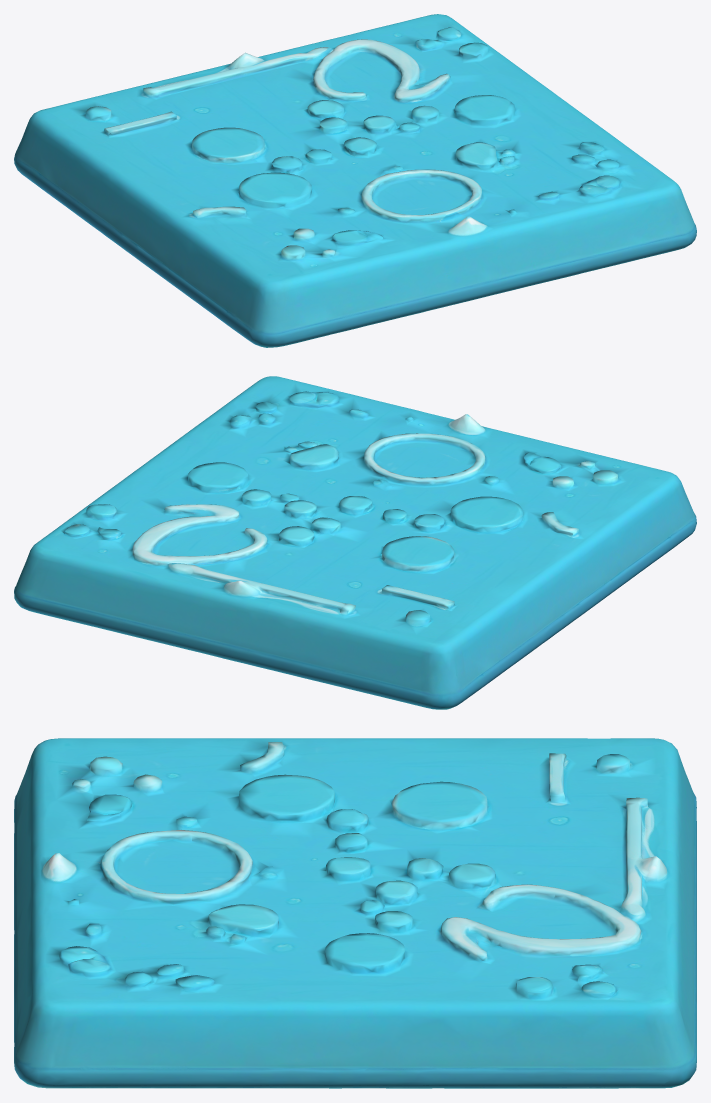
The model's file is Create_a_ground_tile__0517193138_texture.glb.
3 views of the same model, one above another, from view 1: azimuth 30°, elevation 25°; view 2: azimuth 150°, elevation 25°; view 3: azimuth 270°, elevation 25° (orthographic). The views are drawn at different scales.
Bounding box in the file's own units: 2 × 0.3119 × 2.
1 material, 1 textured.
